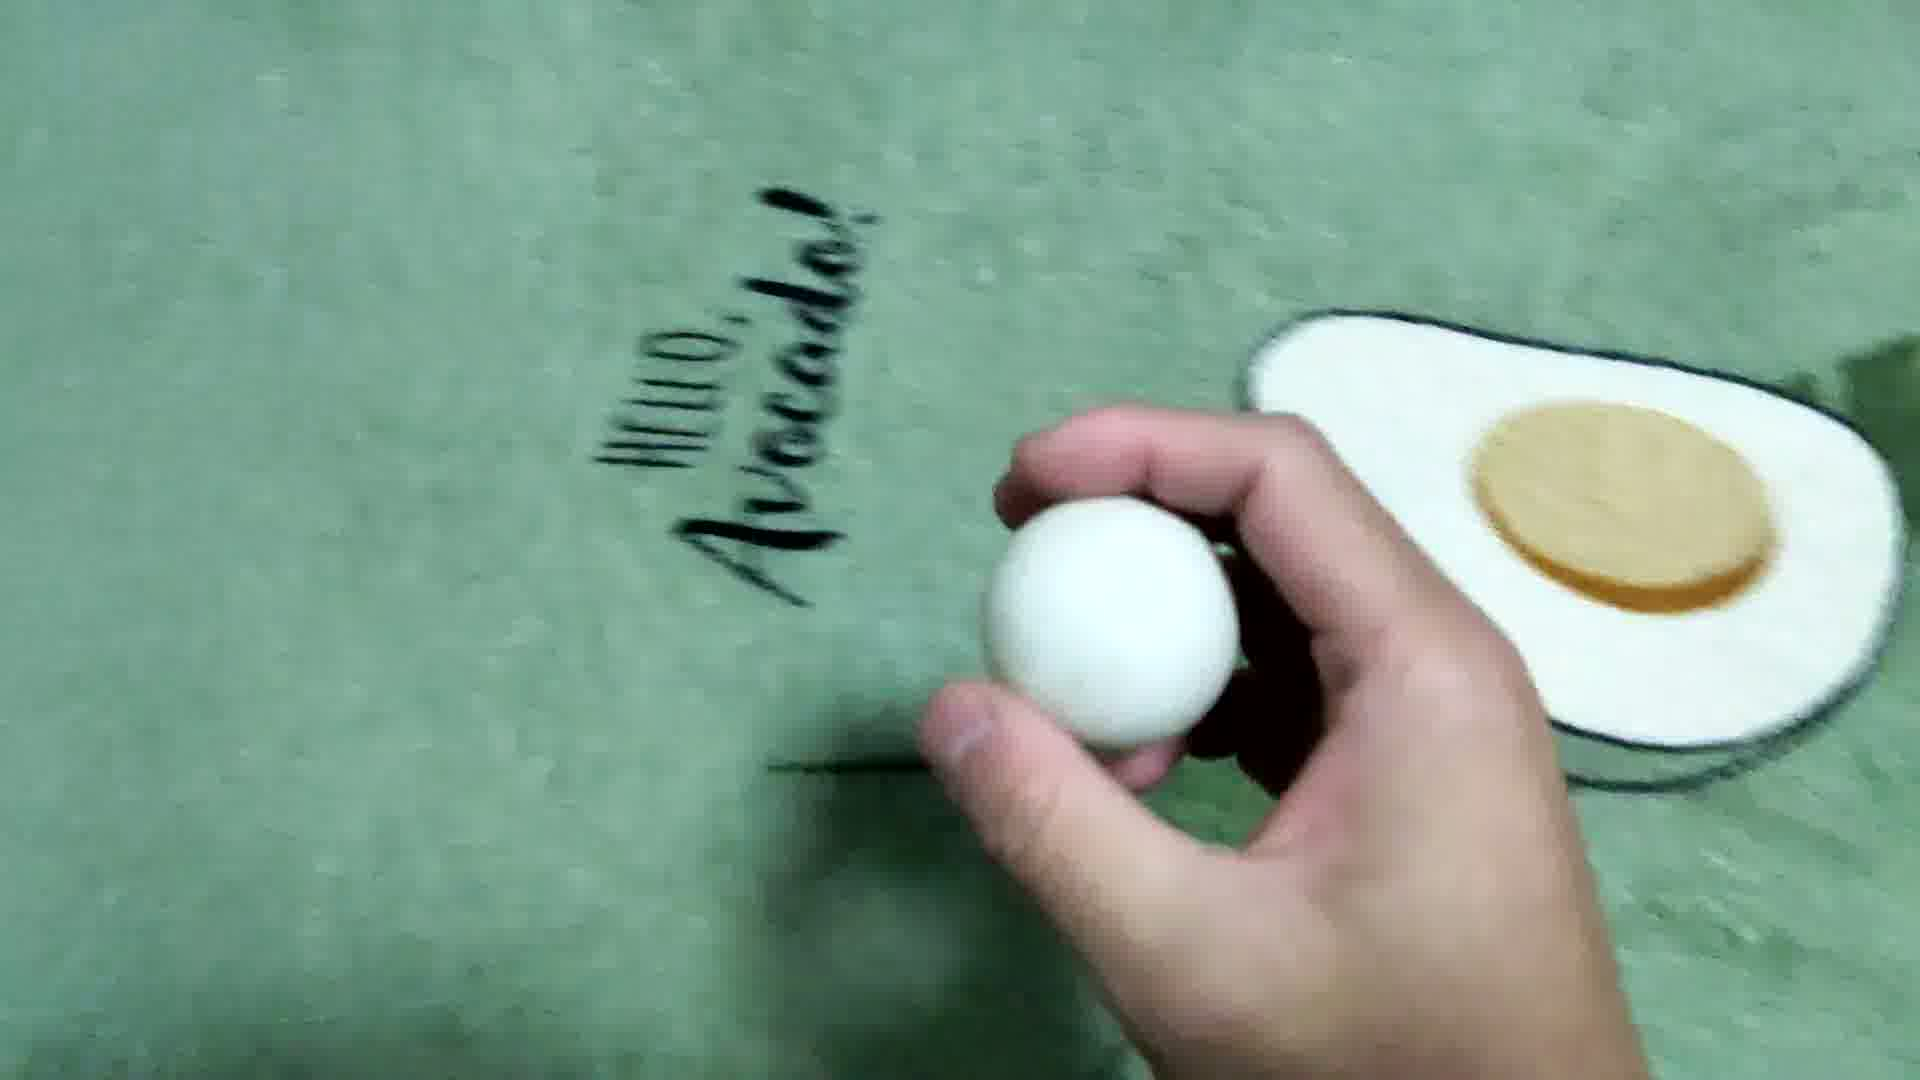Ball: (988, 491, 1244, 745)
